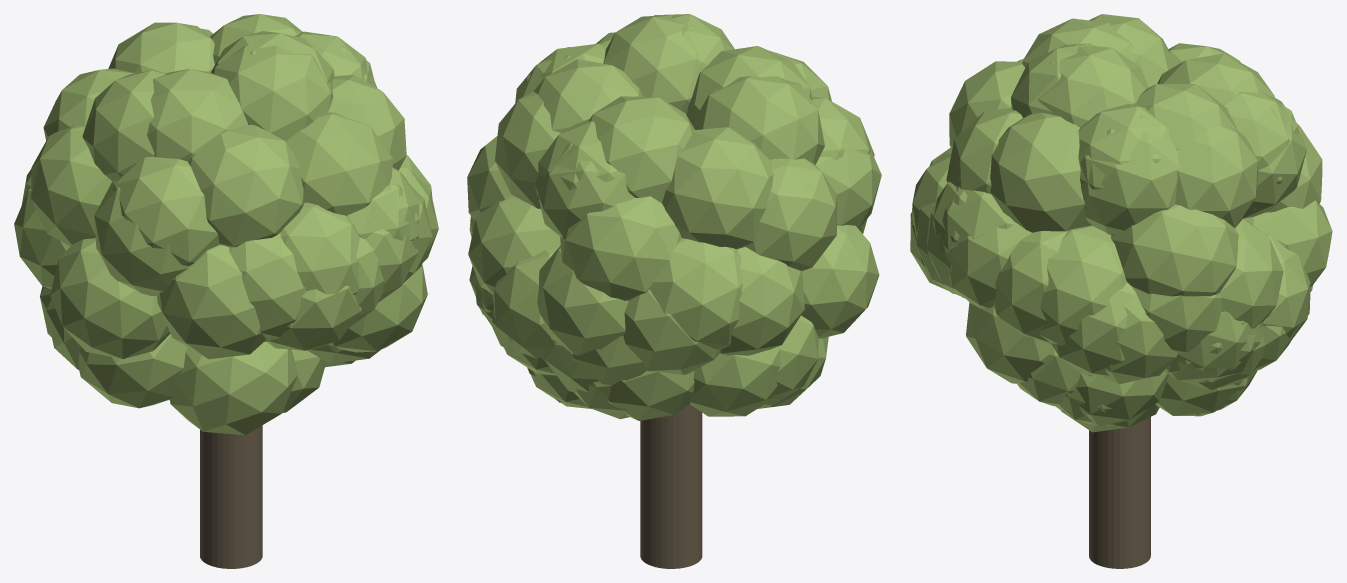
Rendered from Tree_3.fbx.
3 views of the same model, side by side, from view 1: azimuth 30°, elevation 25°; view 2: azimuth 150°, elevation 25°; view 3: azimuth 270°, elevation 25° (orthographic).
Visible parts, largest first — view 1: Tree_1; view 2: Tree_1; view 3: Tree_1.
Boxes of the visible parts, left/top/right/bottom form: Tree_1: left=14, top=14, right=438, bottom=568; Tree_1: left=467, top=14, right=881, bottom=568; Tree_1: left=910, top=14, right=1332, bottom=568.
Bounding box in the file's own units: 167 × 230 × 170.
